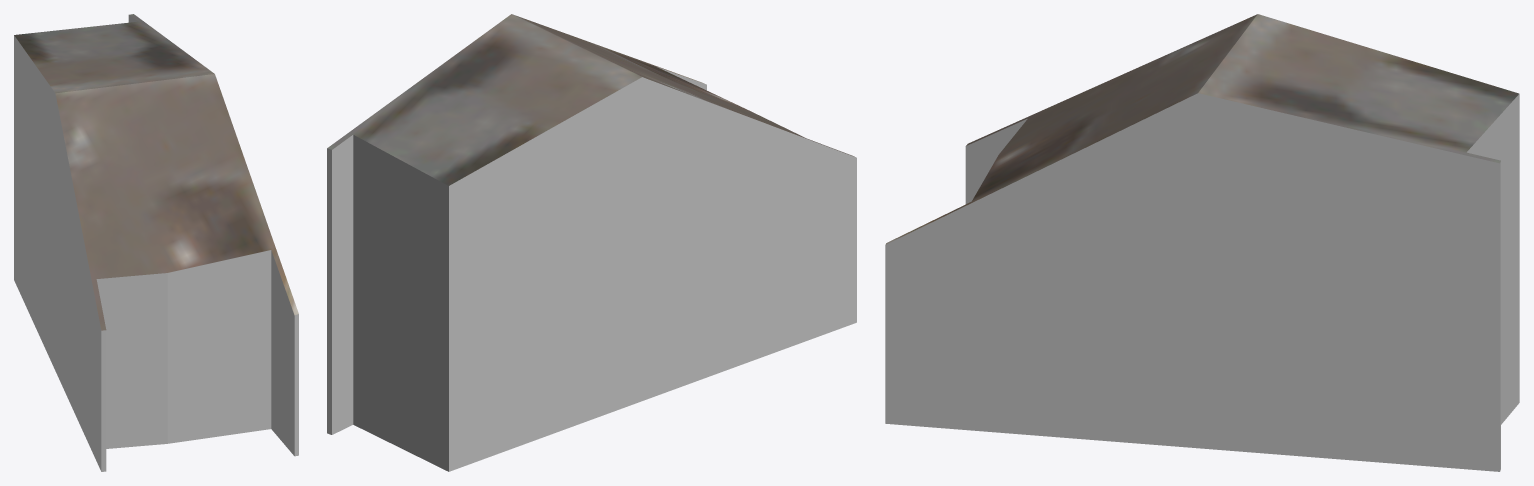
Rendered from DEBW_0010007TvlH.gltf.
The picture shows the model from 3 angles, left to right: view 1: azimuth 30°, elevation 25°; view 2: azimuth 150°, elevation 25°; view 3: azimuth 270°, elevation 25°; orthographic projection. The views are drawn at different scales.
Parts seen in each view (by area): view 1: Z_UP; view 2: Z_UP; view 3: Z_UP.
Part boxes in pixels (<box>): Z_UP: <box>14,14,298,471</box>; Z_UP: <box>327,14,856,471</box>; Z_UP: <box>885,14,1519,471</box>.
Size of the model in its own units: 9.42 by 10.41 by 16.85.
Materials: 2 (1 with a texture image).
